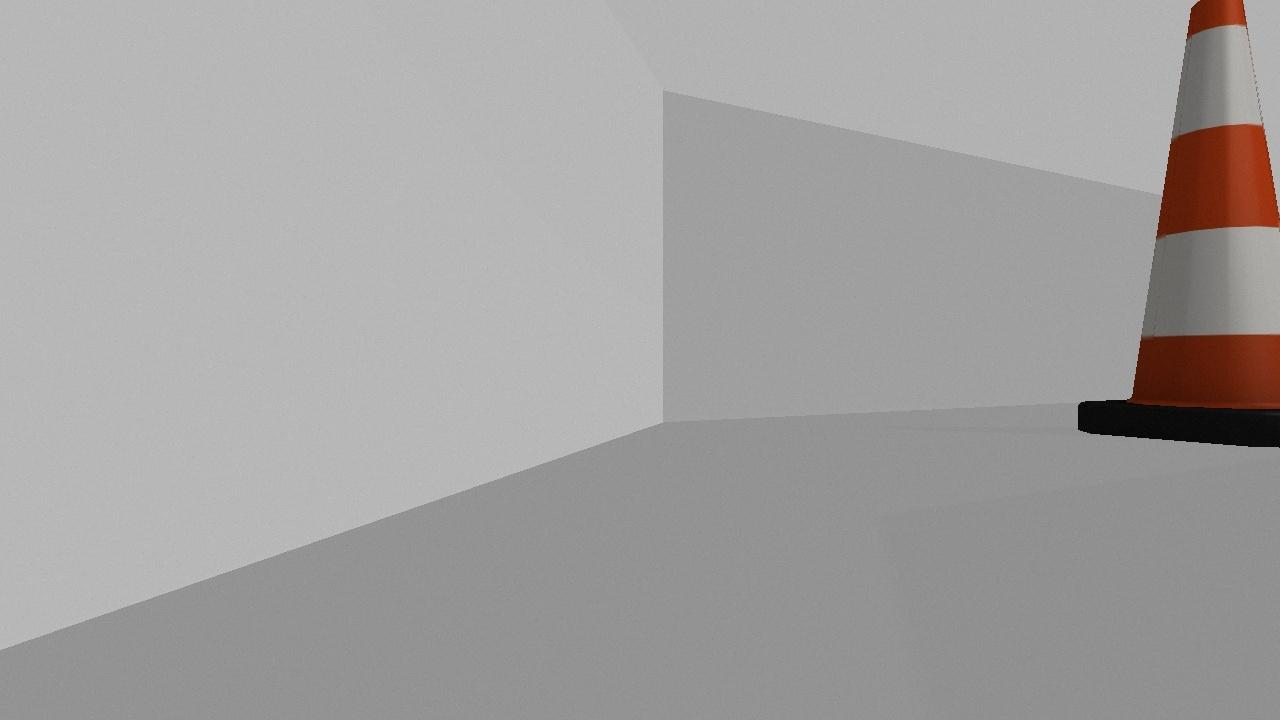cone_barrel: (1077, 0, 1279, 446)
